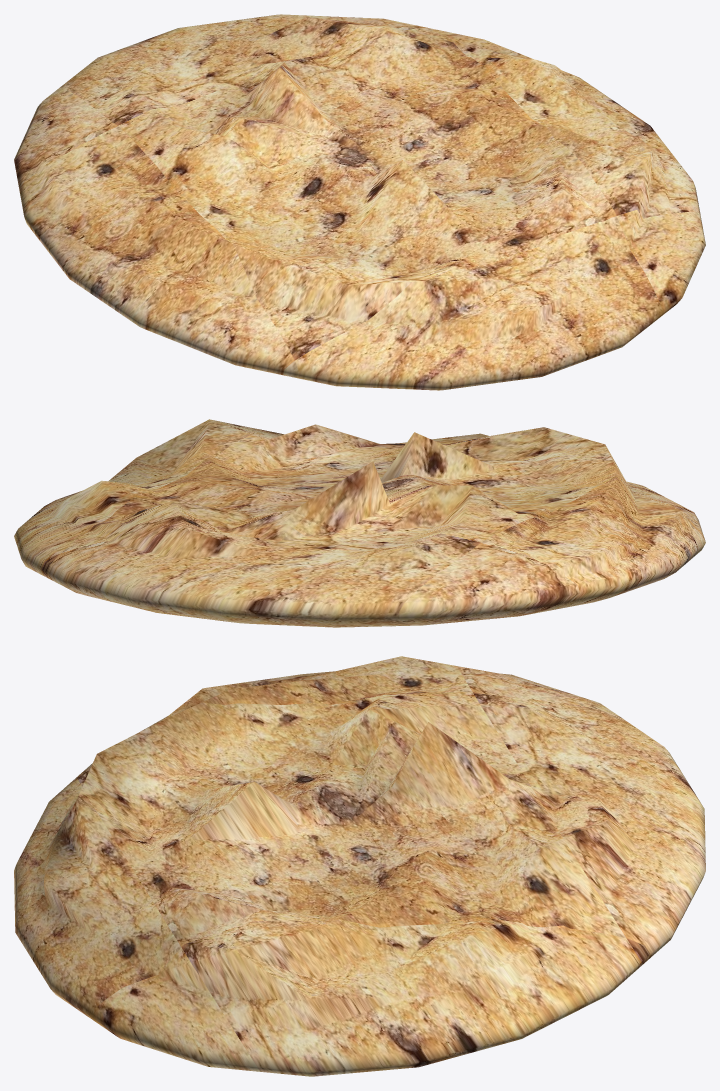
The model's file is Cookiev2.fbx.
The picture shows the model from 3 angles, top to bottom: view 1: azimuth 30°, elevation 25°; view 2: azimuth 150°, elevation 25°; view 3: azimuth 270°, elevation 25°; orthographic projection. The views are drawn at different scales.
Visible parts, largest first — view 1: pSphere1; view 2: pSphere1; view 3: pSphere1.
Part boxes in pixels (x1,y1,x2,y2): pSphere1: (14, 14, 705, 390); pSphere1: (14, 419, 705, 627); pSphere1: (14, 656, 705, 1076).
Size of the model in its own units: 1.8 by 0.528 by 1.63.
Materials: 1 (1 with a texture image).
